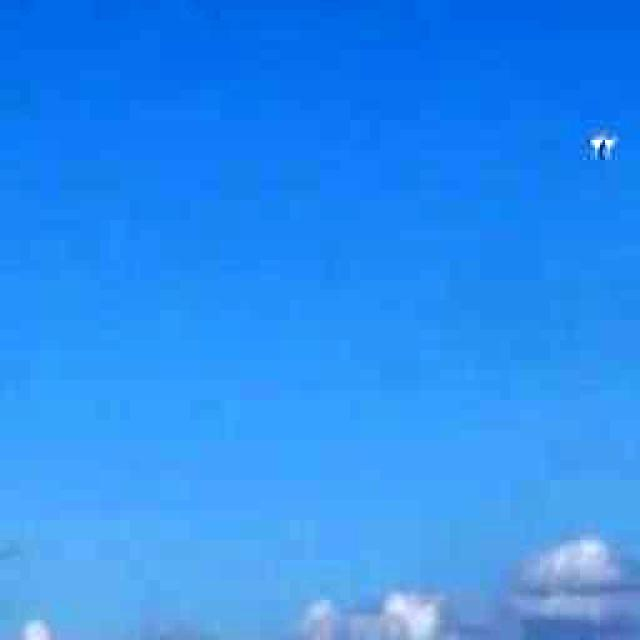bird: (576, 115, 629, 185)
